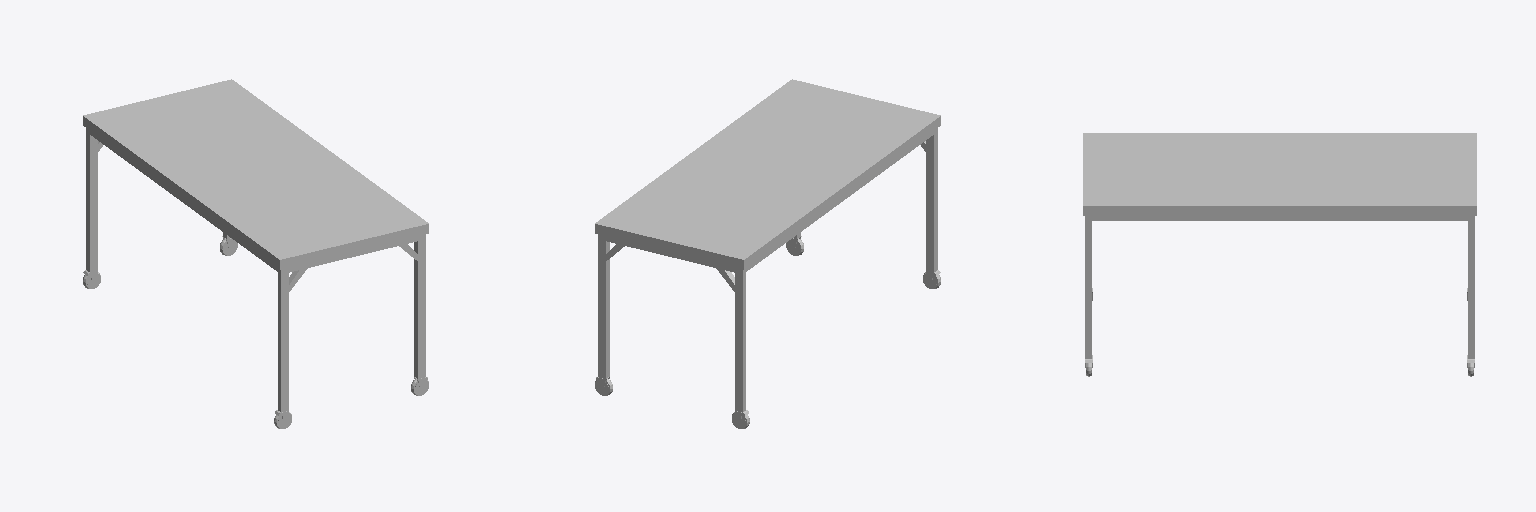
Rendered from Wooden Table.obj.
3 renders of one model, left to right at view 1: azimuth 30°, elevation 25°; view 2: azimuth 150°, elevation 25°; view 3: azimuth 270°, elevation 25°, orthographic.
Parts seen in each view (by area): view 1: Cube_Cube.001, Cube.001_Cube.002, Cube.002_Cube.003; view 2: Cube_Cube.001, Cube.001_Cube.002, Cube.002_Cube.003; view 3: Cube_Cube.001, Cube.001_Cube.002.
Part boxes in pixels (x1,y1,x2,y2): Cube_Cube.001: (83,79,428,269); Cube.001_Cube.002: (86,128,425,412); Cube.002_Cube.003: (83,239,428,428); Cube_Cube.001: (595,79,940,269); Cube.001_Cube.002: (598,128,937,412); Cube.002_Cube.003: (595,239,940,428); Cube_Cube.001: (1083,133,1476,215); Cube.001_Cube.002: (1085,216,1474,358).
Size of the model in its own units: 3.85 by 4.12 by 8.52.